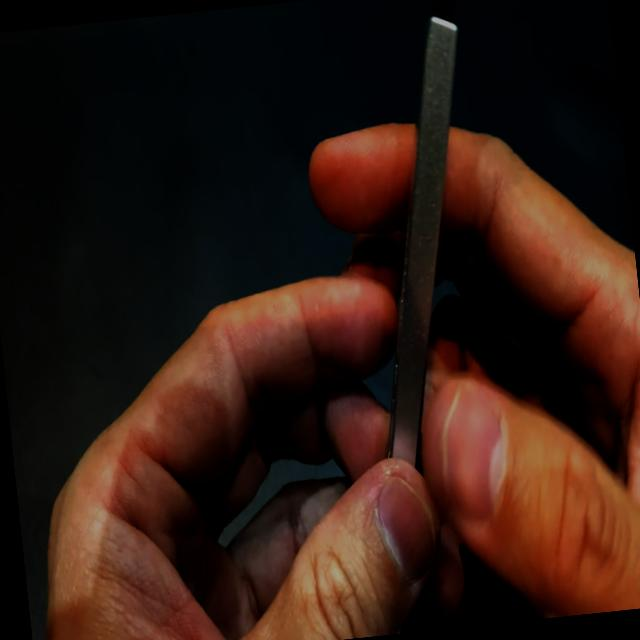cutter: (267, 0, 640, 637)
